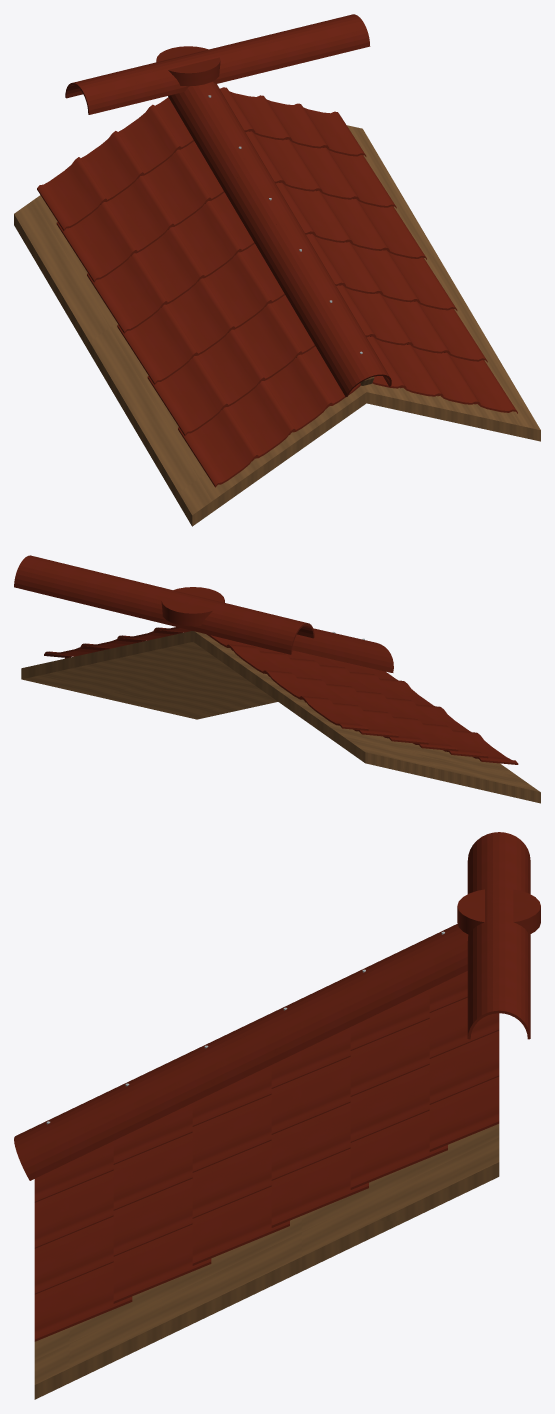
The model's file is modell.glb.
3 renders of one model, top to bottom at view 1: azimuth 30°, elevation 25°; view 2: azimuth 150°, elevation 25°; view 3: azimuth 270°, elevation 25°, orthographic. The views are drawn at different scales.
Visible parts, largest first — view 1: w03-ziegel_deckung, w03-walmflaeche_tragwerk, w03-gratziegel_deckung, w03-first_deckung, w03-knoten_deckung; view 2: w03-walmflaeche_tragwerk, w03-ziegel_deckung, w03-first_deckung, w03-gratziegel_deckung, w03-knoten_deckung; view 3: w03-ziegel_deckung, w03-walmflaeche_tragwerk, w03-gratziegel_deckung, w03-first_deckung, w03-knoten_deckung.
Boxes of the visible parts, <box> form: w03-ziegel_deckung: <box>37,87,517,487</box>; w03-walmflaeche_tragwerk: <box>14,125,540,526</box>; w03-gratziegel_deckung: <box>168,81,391,396</box>; w03-first_deckung: <box>65,14,370,114</box>; w03-knoten_deckung: <box>156,46,220,86</box>; w03-walmflaeche_tragwerk: <box>21,631,540,803</box>; w03-ziegel_deckung: <box>44,627,518,764</box>; w03-first_deckung: <box>14,555,314,654</box>; w03-gratziegel_deckung: <box>292,628,393,672</box>; w03-knoten_deckung: <box>161,587,224,626</box>; w03-ziegel_deckung: <box>34,971,499,1341</box>; w03-walmflaeche_tragwerk: <box>34,1124,499,1399</box>; w03-gratziegel_deckung: <box>14,924,468,1180</box>; w03-first_deckung: <box>467,832,530,1039</box>; w03-knoten_deckung: <box>457,889,540,934</box>.
Bounding box in the file's own units: 2.26 × 1.84 × 2.27.
Materials: 3 (2 with a texture image).
